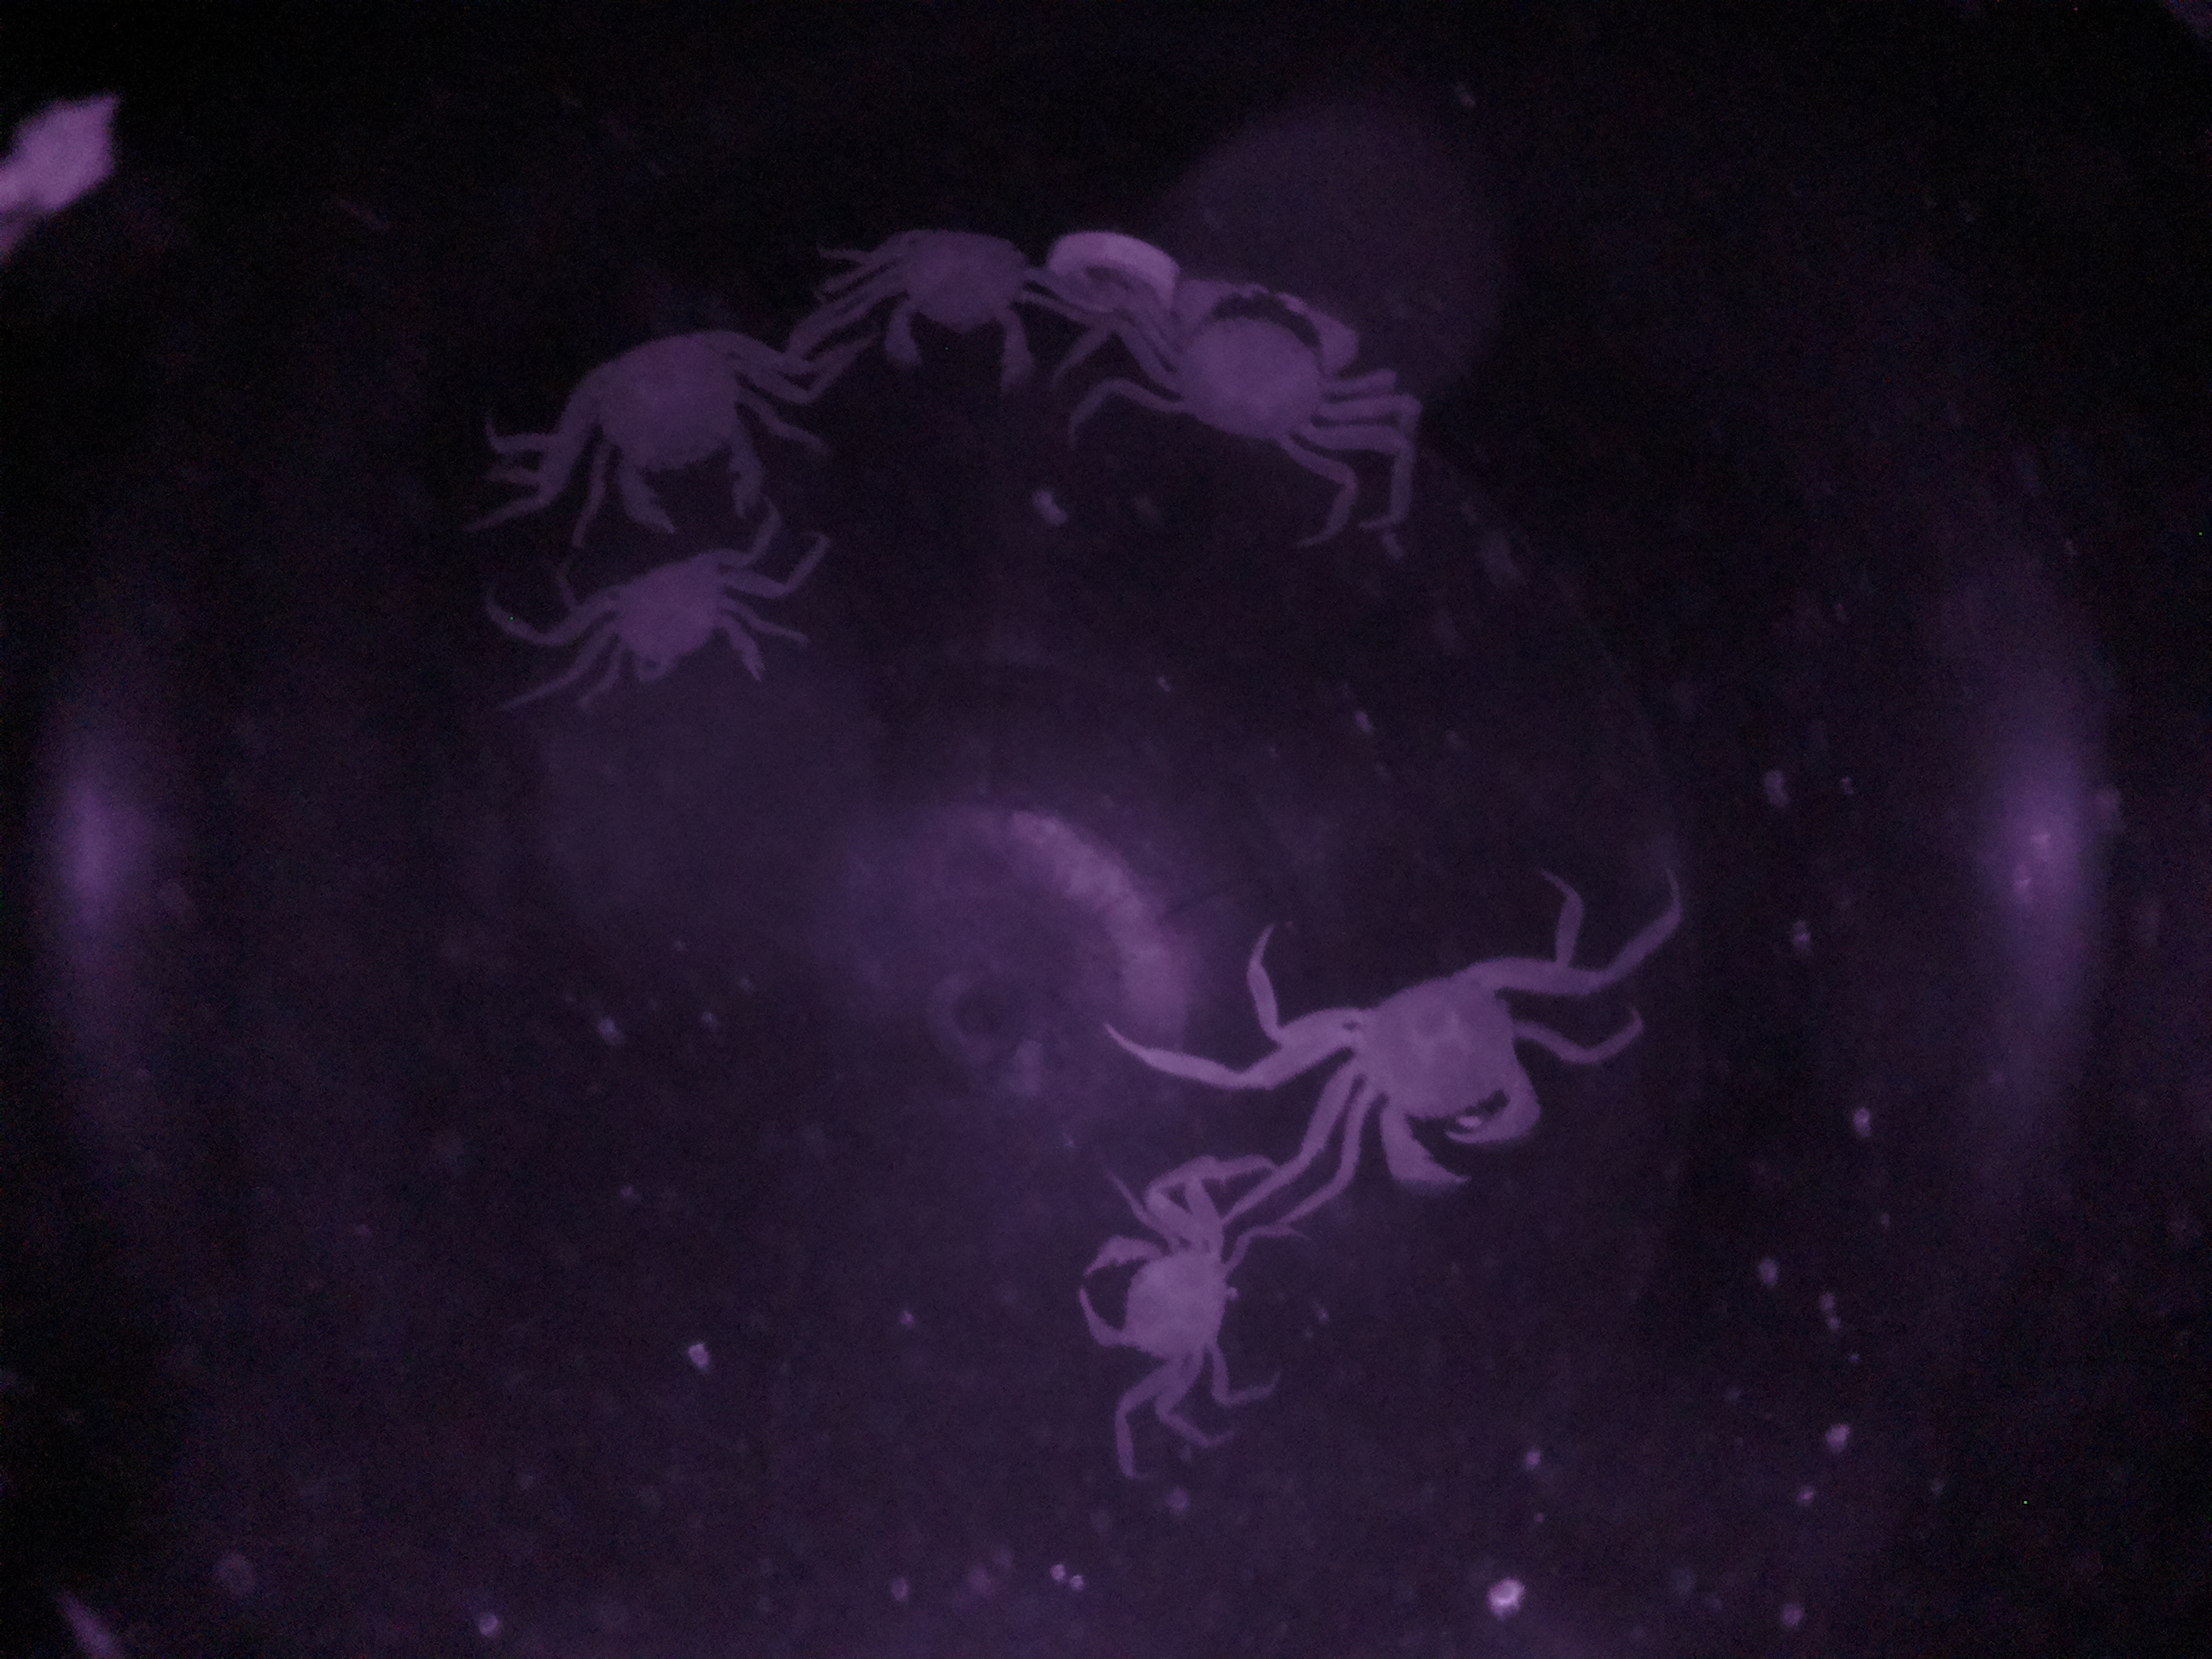Crab: (1238, 939, 1575, 1211), (559, 298, 779, 556), (1123, 260, 1369, 476), (848, 193, 1055, 397), (1066, 1194, 1233, 1398), (582, 552, 772, 709)
